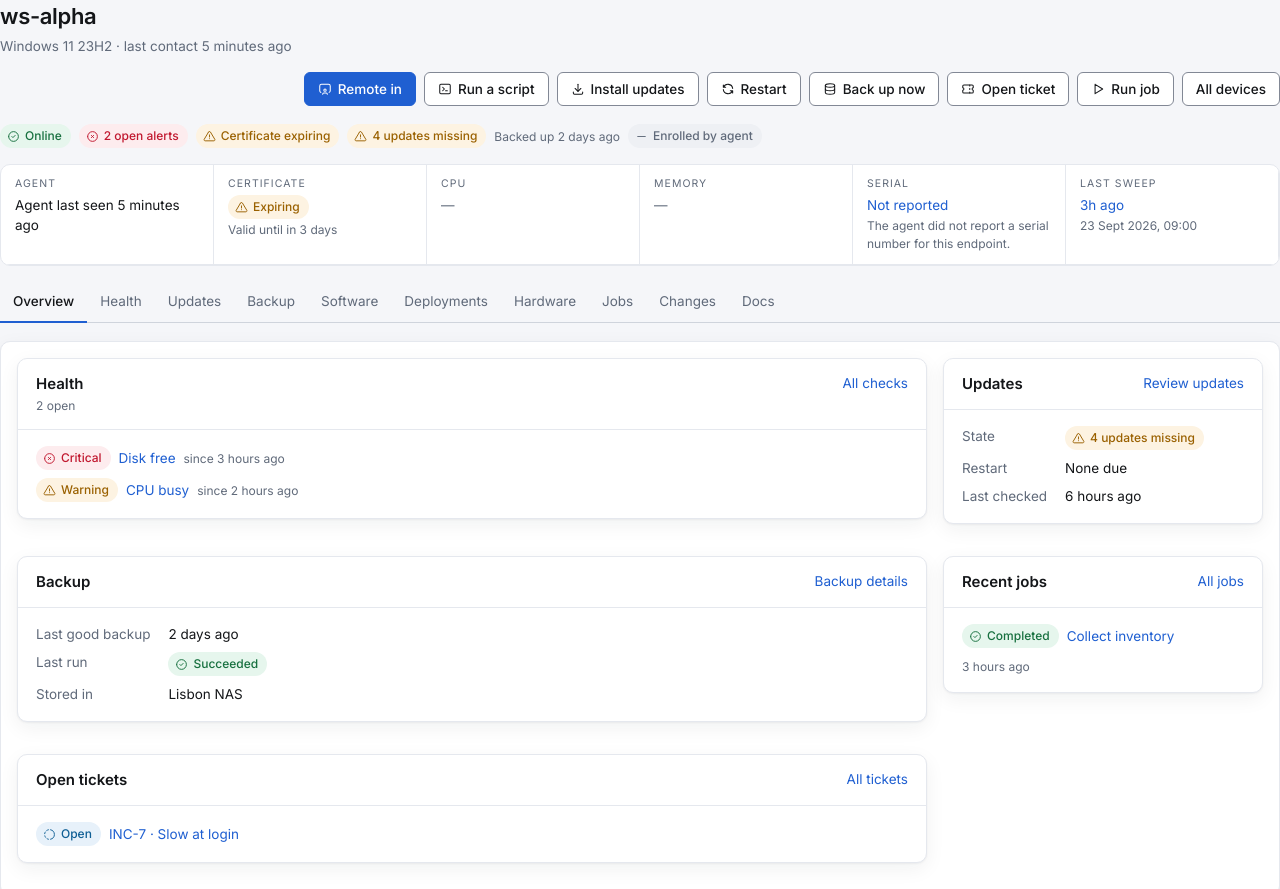
it: the actions › installs approved updates on this device only, after asking, and says what happened
The width and height of the screenshot is (1280, 889).
Click the button "Install updates".
click(628, 89)  # box 557,72 -> 699,106
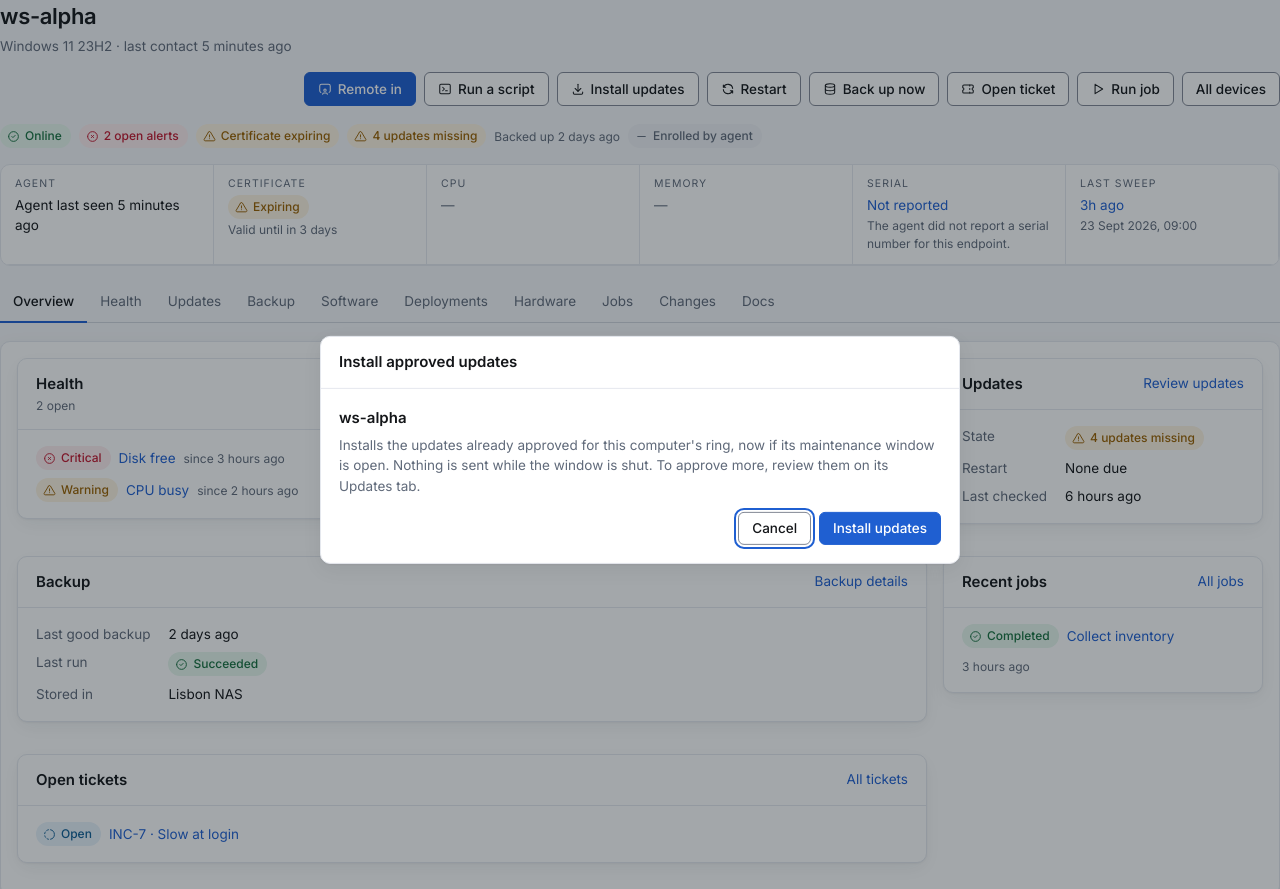
Click the 2nd button "Install updates".
click(880, 528)  # box 819,512 -> 941,545
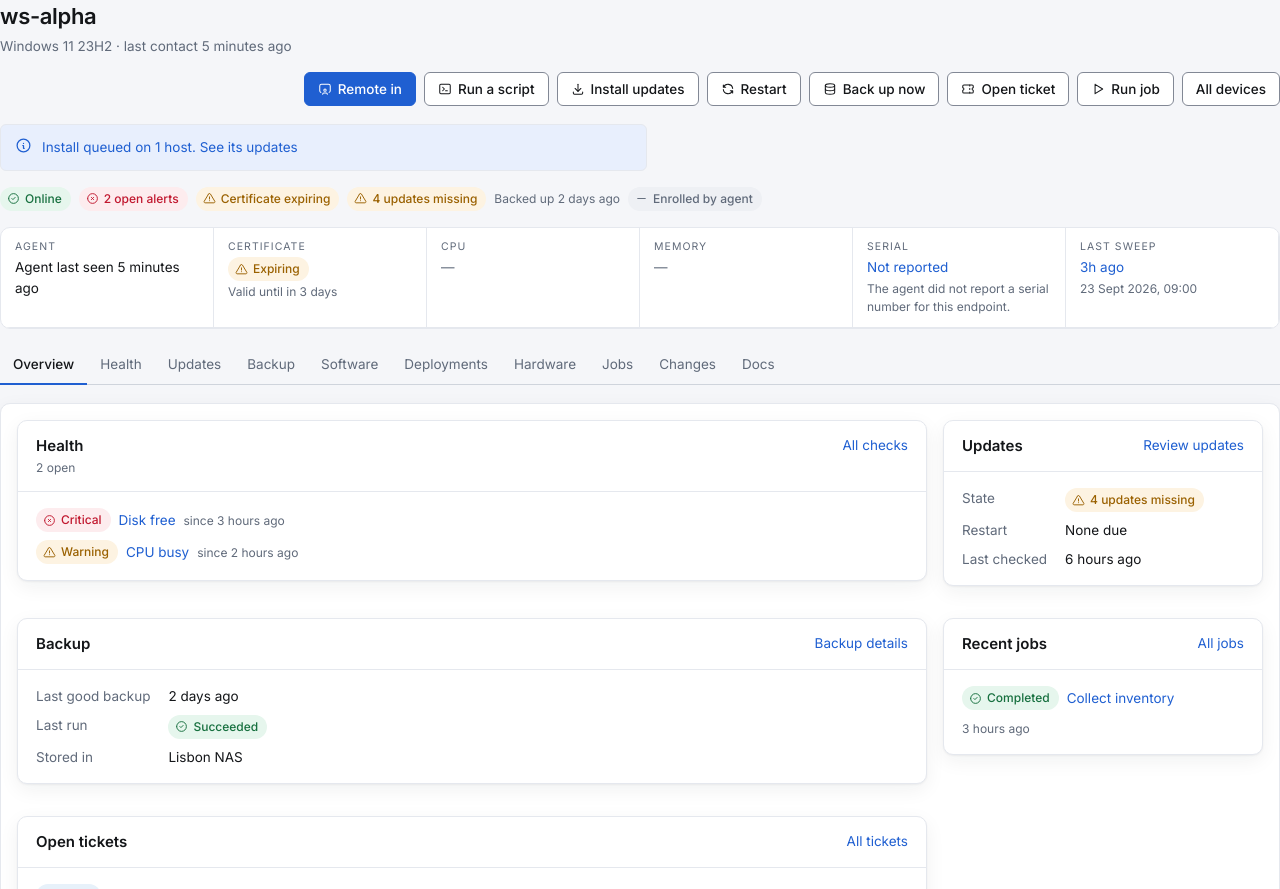
Expected: the message shows "Install queued on 1 host.", 42,139 -> 196,155
